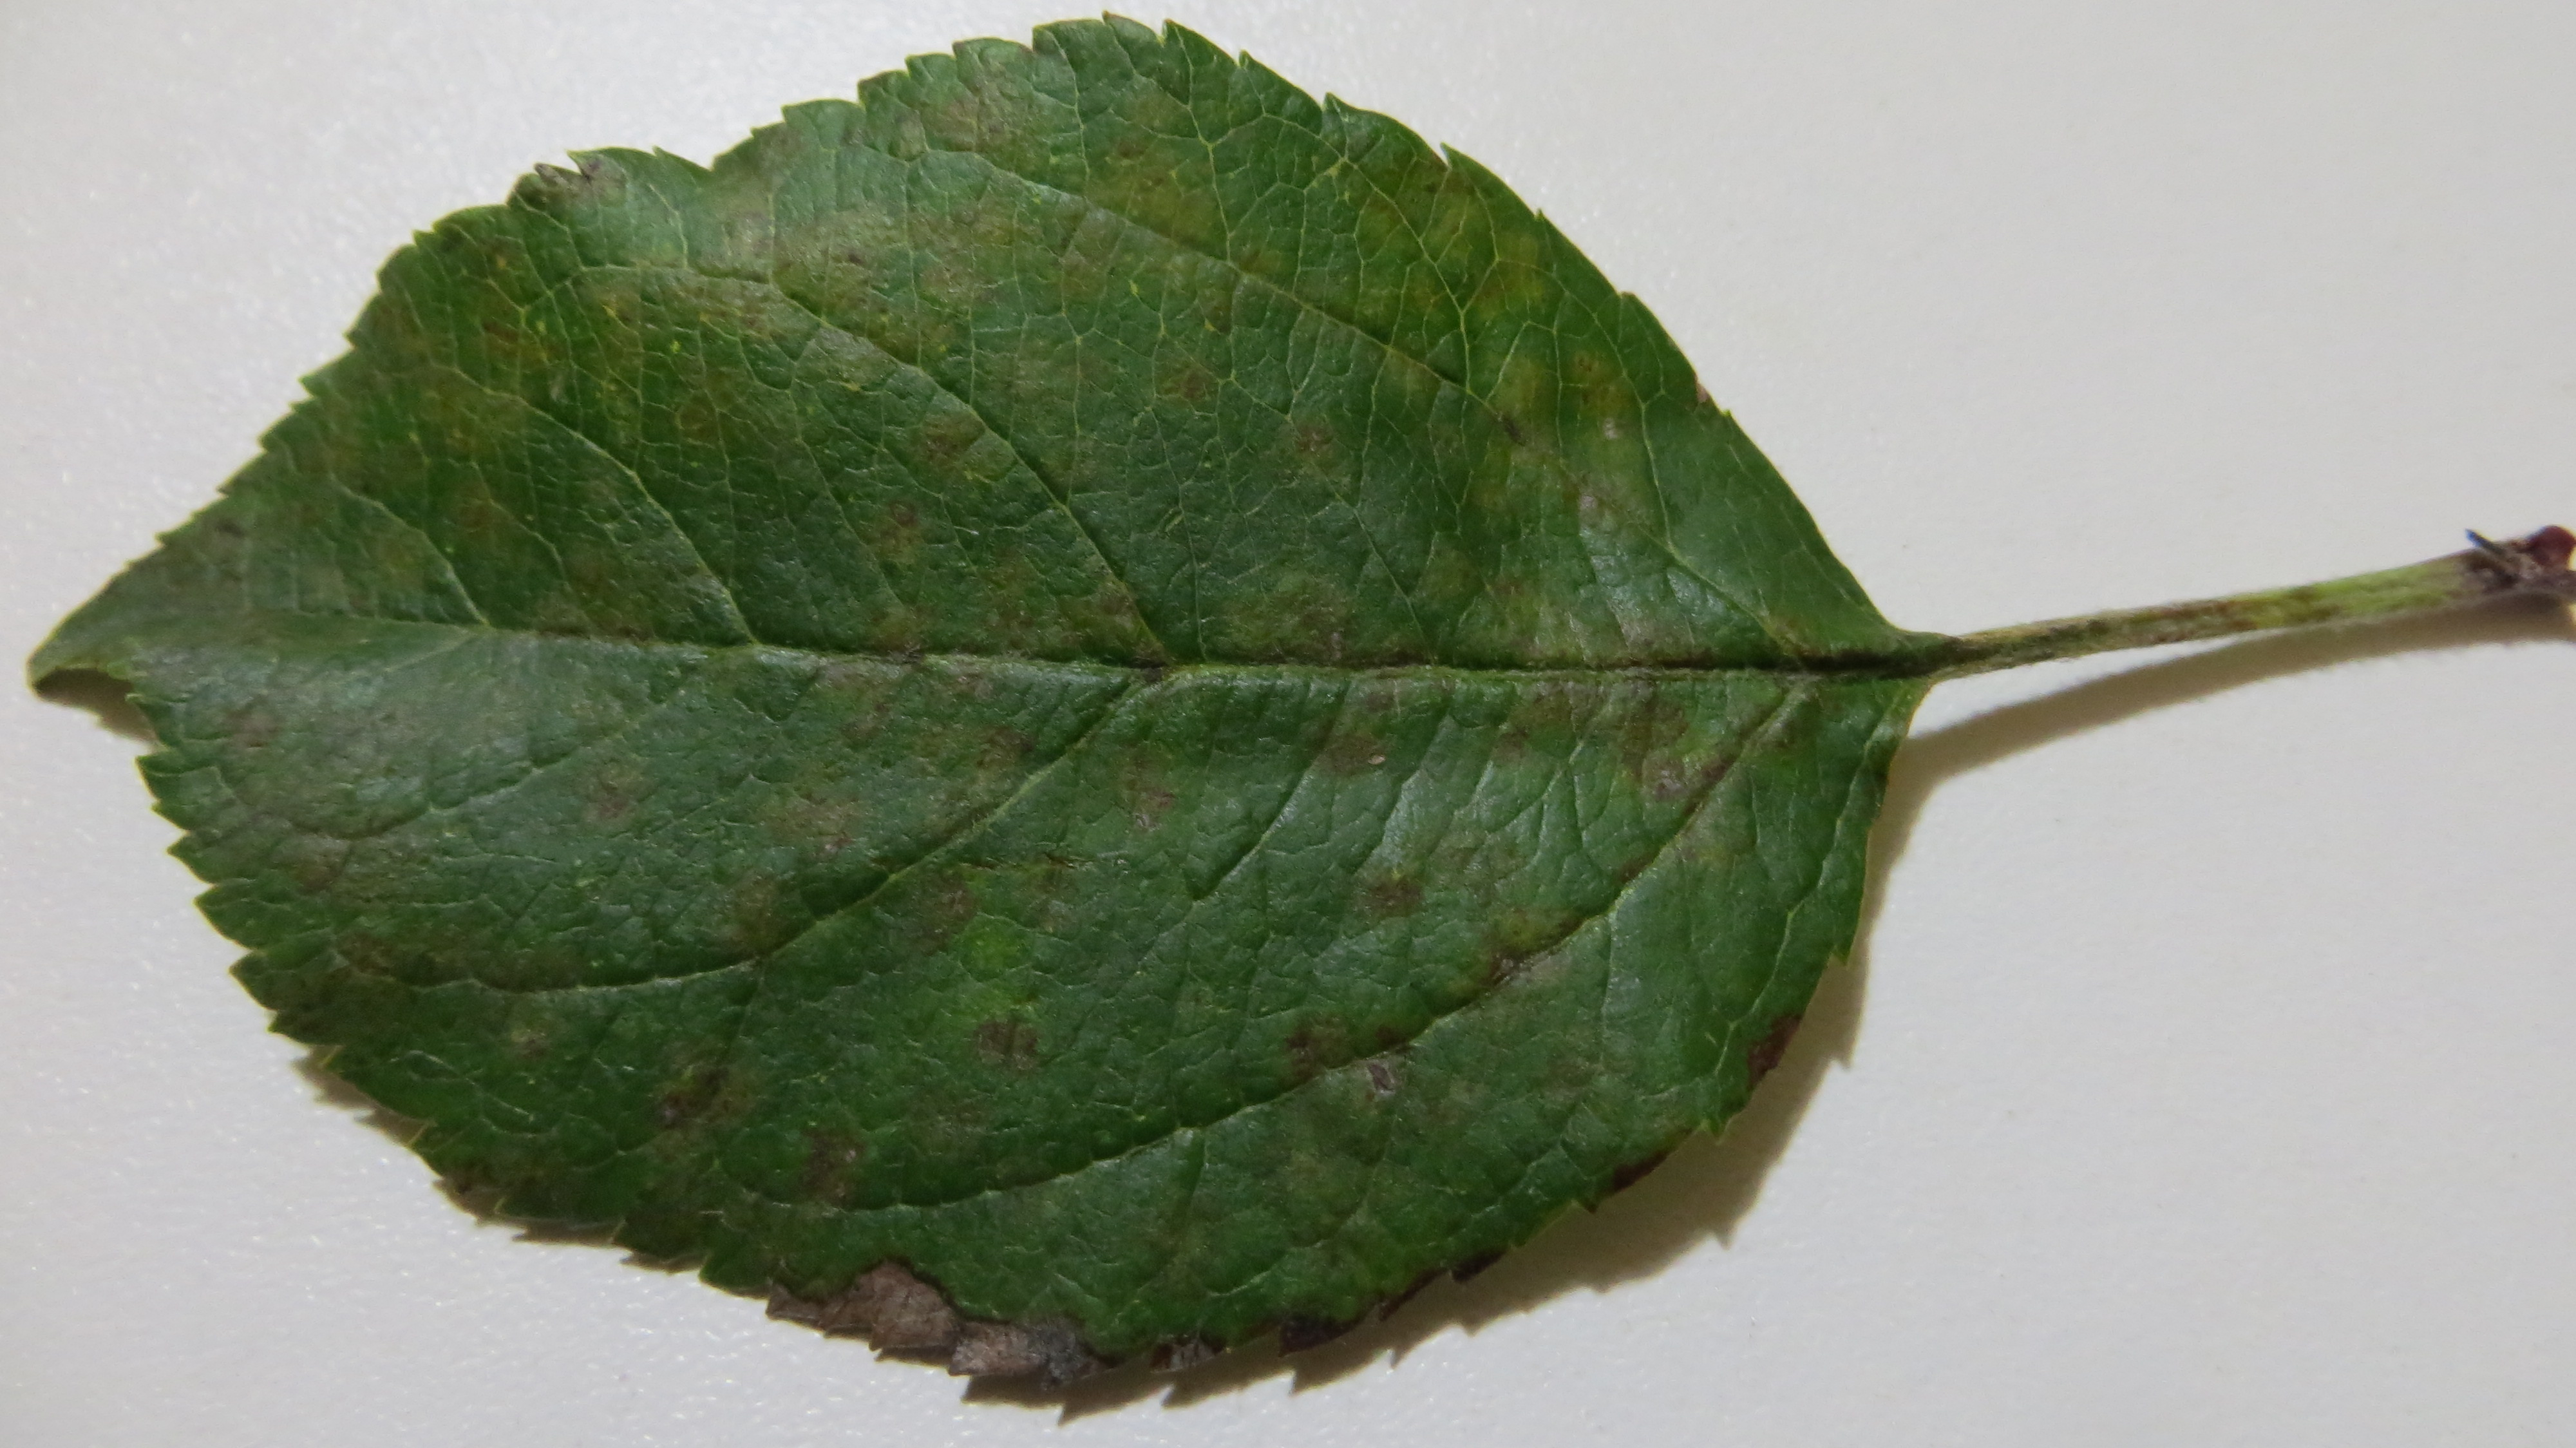sarna: (777, 1243, 1113, 1383), (359, 283, 541, 457), (1591, 584, 1713, 820), (805, 188, 939, 389), (1279, 993, 1438, 1145), (1226, 558, 1415, 674), (1093, 78, 1214, 241), (814, 591, 938, 749), (568, 251, 688, 409), (690, 193, 803, 359), (633, 1025, 755, 1159), (287, 809, 446, 912), (924, 184, 1046, 315), (193, 648, 299, 782), (527, 543, 653, 657), (1476, 887, 1575, 1018), (318, 676, 425, 795), (1371, 154, 1476, 267), (1488, 662, 1598, 768), (885, 864, 989, 970), (932, 53, 1035, 161), (522, 140, 646, 227), (964, 543, 1060, 653), (711, 850, 798, 963), (1566, 467, 1656, 574), (1555, 336, 1638, 448), (780, 782, 885, 869), (893, 1074, 987, 1170), (959, 1000, 1058, 1087), (1106, 729, 1178, 844), (1491, 579, 1583, 669), (570, 747, 658, 841), (1470, 216, 1541, 329), (793, 1121, 869, 1214), (1044, 202, 1118, 296), (1299, 719, 1407, 782), (1016, 828, 1085, 928), (1352, 851, 1435, 933), (1076, 575, 1157, 653), (918, 414, 1008, 483), (863, 487, 932, 577), (425, 473, 511, 542), (973, 715, 1037, 807), (1336, 664, 1421, 717), (1260, 414, 1339, 467), (1148, 347, 1219, 405)
